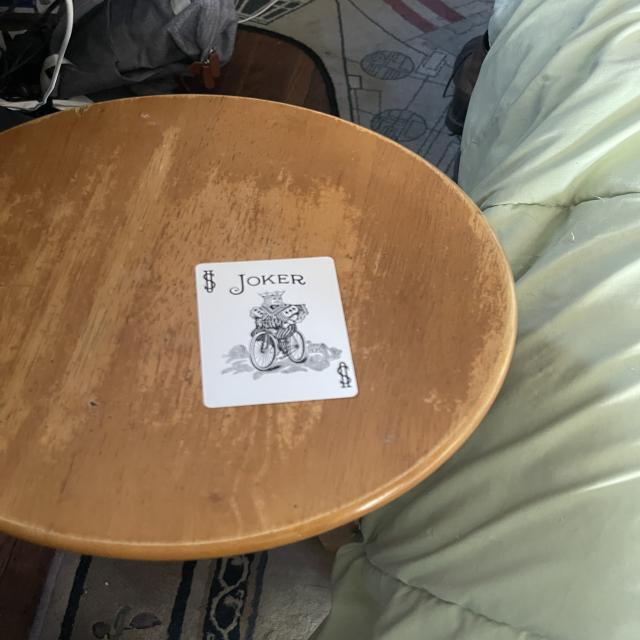Joker: (168, 249, 361, 432)
